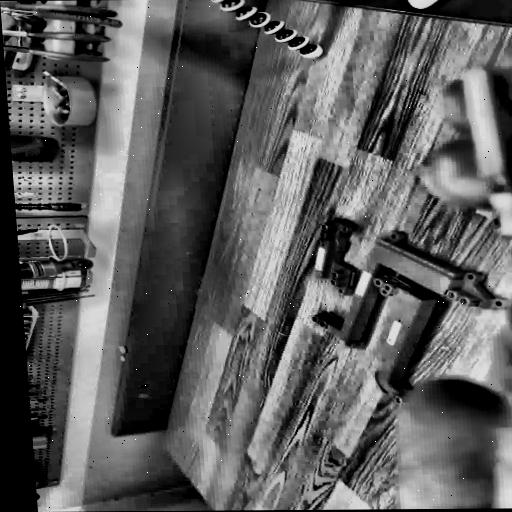busbar: (294, 211, 512, 414)
